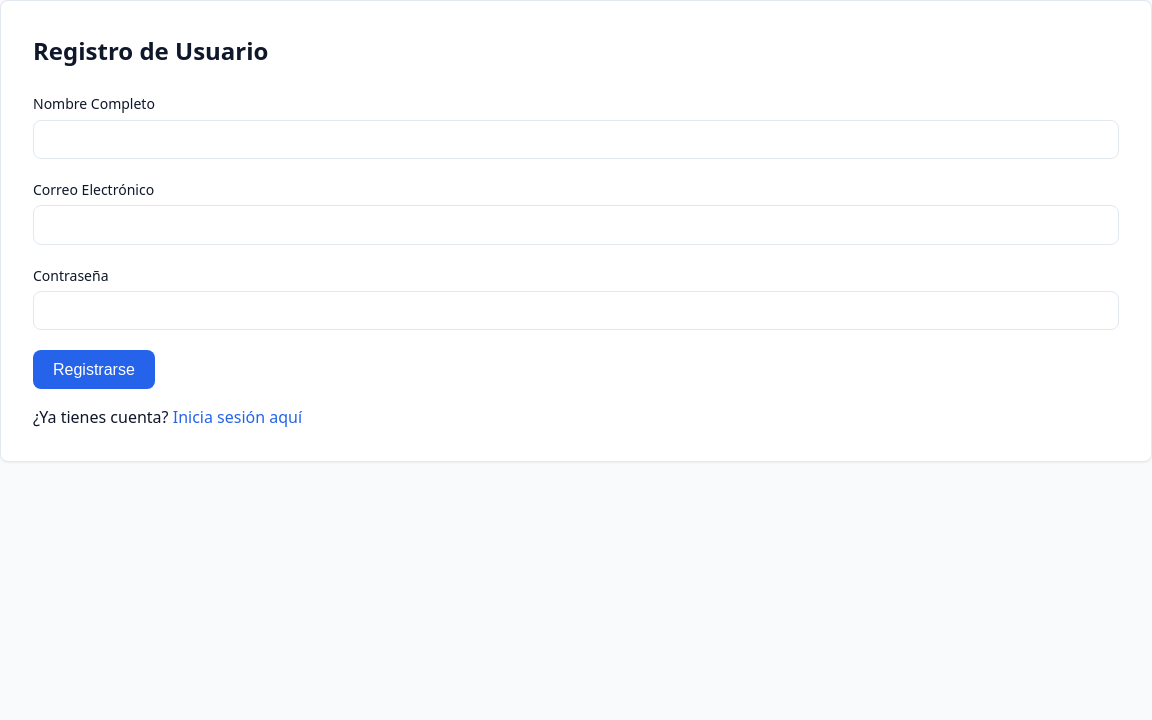
Test: RegisterPage › muestra errores de validación Zod cuando se envía datos inválidos
The image size is (1152, 720).
Click the button "Registrarse" at (94, 370), box [33,350,155,389]
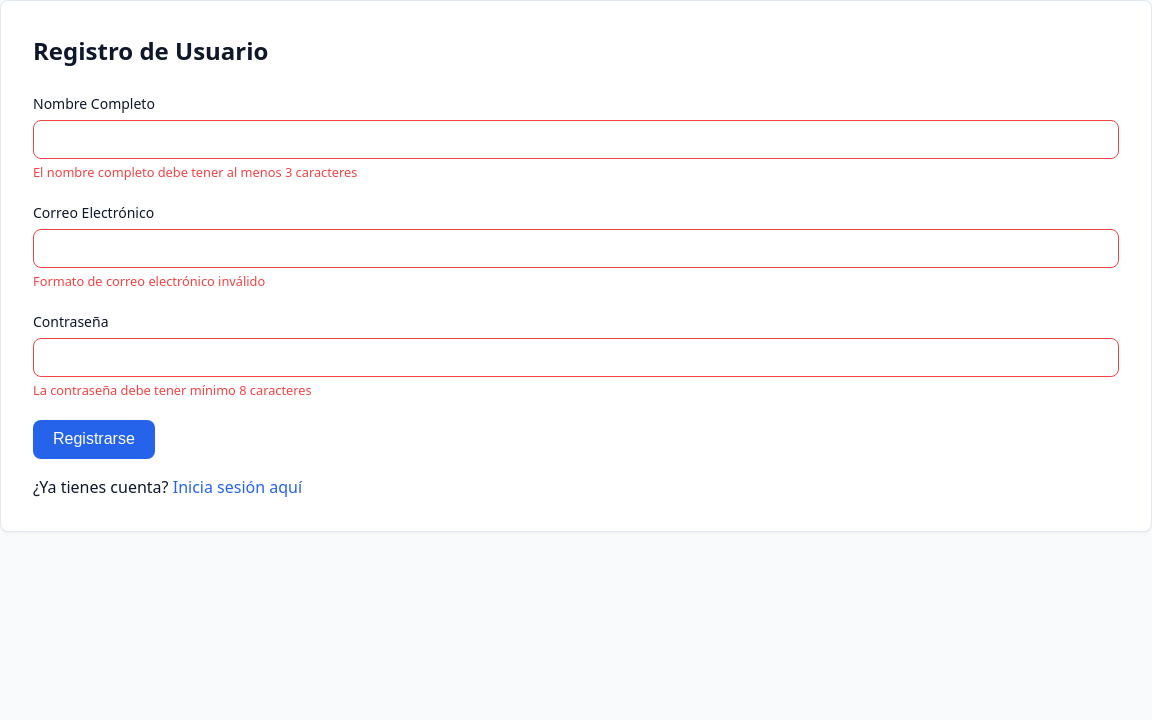
Expected: the text "El nombre completo debe tener al menos 3 caracteres" is shown, [33,163,358,181]
